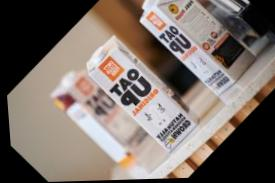cardboard: (59, 36, 195, 168), (140, 0, 274, 97), (51, 71, 147, 170)
